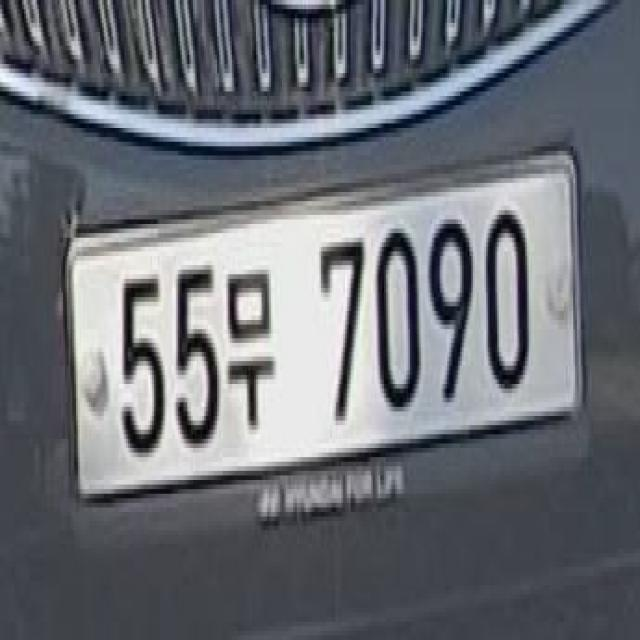0: (372, 212, 427, 422), (483, 200, 537, 394)
5: (114, 261, 166, 454), (173, 254, 220, 446)
7: (318, 222, 368, 432)
9: (428, 204, 476, 404)
license_plate: (56, 113, 606, 531)
mu: (226, 240, 280, 444)
